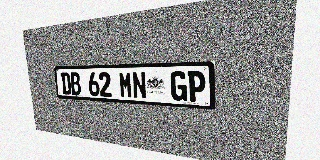2: (98, 72, 112, 97)
6: (87, 72, 100, 96)
B: (70, 72, 81, 95)
D: (60, 72, 72, 95)
G: (170, 71, 187, 101)
M: (119, 72, 133, 98)
N: (132, 72, 147, 99)
P: (187, 71, 205, 102)
